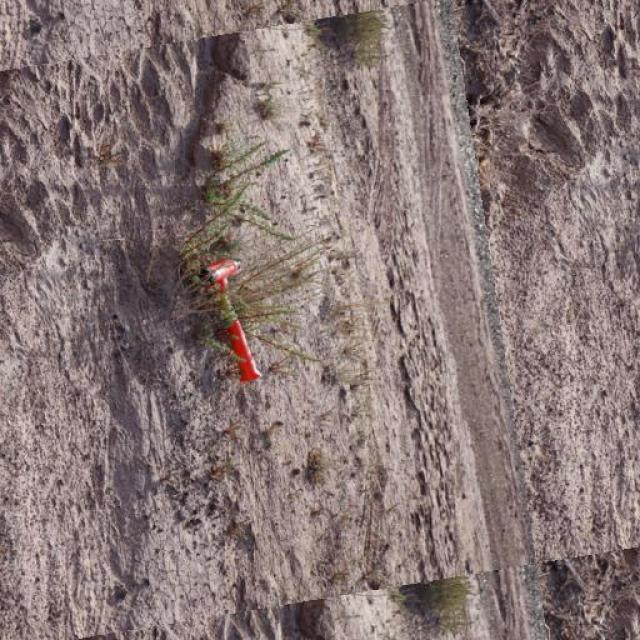mallet: (201, 256, 264, 382)
